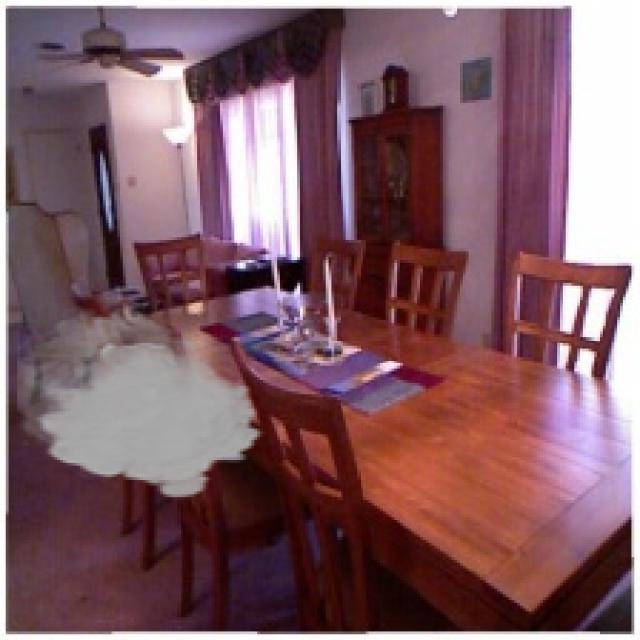smoke: (17, 300, 266, 500)
